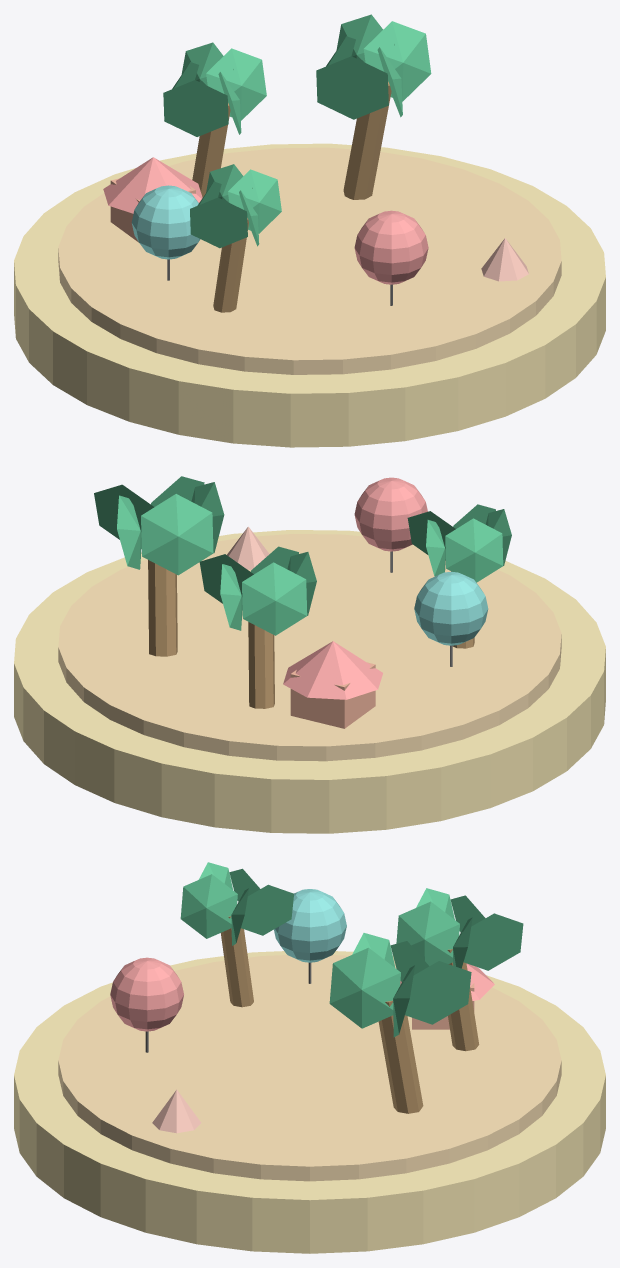
File: 01_sonnenstrand.glb
3 renders of one model, top to bottom at view 1: azimuth 30°, elevation 25°; view 2: azimuth 150°, elevation 25°; view 3: azimuth 270°, elevation 25°, orthographic.
Parts seen in each view (by area): view 1: GroundLayer, IslandBase, Balloon, Balloon.001, PalmLeaf3, PalmLeaf0, PalmLeaf3.002, PalmTrunk, HouseRoof, PalmLeaf0.002, PalmLeaf3.001, PalmLeaf0.001 (+8 smaller); view 2: GroundLayer, IslandBase, PalmLeaf2, Balloon.001, Balloon, HouseRoof, PalmLeaf2.002, PalmLeaf2.001, PalmTrunk, HouseWalls, PalmTrunk.002, PalmLeaf0 (+11 smaller); view 3: GroundLayer, IslandBase, Balloon, PalmLeaf4, Balloon.001, PalmLeaf1, PalmTrunk, PalmLeaf4.002, PalmLeaf4.001, PalmLeaf1.002, PalmLeaf1.001, PalmTrunk.001 (+10 smaller).
Boxes of the visible parts, bbox=[...] form: GroundLayer: bbox=[58, 147, 561, 374]; IslandBase: bbox=[14, 143, 605, 447]; Balloon: bbox=[354, 210, 428, 284]; Balloon.001: bbox=[131, 185, 200, 259]; PalmLeaf3: bbox=[316, 56, 388, 119]; PalmLeaf0: bbox=[363, 21, 431, 101]; PalmLeaf3.002: bbox=[163, 80, 228, 136]; PalmTrunk: bbox=[343, 81, 391, 199]; HouseRoof: bbox=[103, 157, 202, 213]; PalmLeaf0.002: bbox=[206, 48, 266, 120]; PalmLeaf3.001: bbox=[190, 197, 247, 248]; PalmLeaf0.001: bbox=[228, 169, 281, 233]; GroundLayer: bbox=[58, 534, 561, 761]; IslandBase: bbox=[14, 530, 605, 833]; PalmLeaf2: bbox=[141, 494, 213, 575]; Balloon.001: bbox=[414, 571, 488, 645]; Balloon: bbox=[354, 477, 427, 551]; HouseRoof: bbox=[283, 641, 382, 699]; PalmLeaf2.002: bbox=[242, 562, 307, 635]; PalmLeaf2.001: bbox=[445, 518, 503, 582]; PalmTrunk: bbox=[148, 560, 177, 656]; HouseWalls: bbox=[290, 662, 375, 728]; PalmTrunk.002: bbox=[248, 622, 274, 708]; PalmLeaf0: bbox=[94, 484, 154, 539]; GroundLayer: bbox=[58, 955, 561, 1181]; IslandBase: bbox=[14, 951, 605, 1253]; Balloon: bbox=[110, 957, 183, 1031]; PalmLeaf4: bbox=[329, 947, 400, 1028]; Balloon.001: bbox=[274, 889, 346, 962]; PalmLeaf1: bbox=[403, 961, 471, 1024]; PalmTrunk: bbox=[378, 1000, 423, 1113]; PalmLeaf4.002: bbox=[396, 901, 459, 966]; PalmLeaf4.001: bbox=[180, 874, 237, 938]; PalmLeaf1.002: bbox=[462, 913, 523, 970]; PalmLeaf1.001: bbox=[239, 884, 293, 935]; PalmTrunk.001: bbox=[220, 916, 253, 1007].
Size of the model in its own units: 4 by 1.71 by 4.
